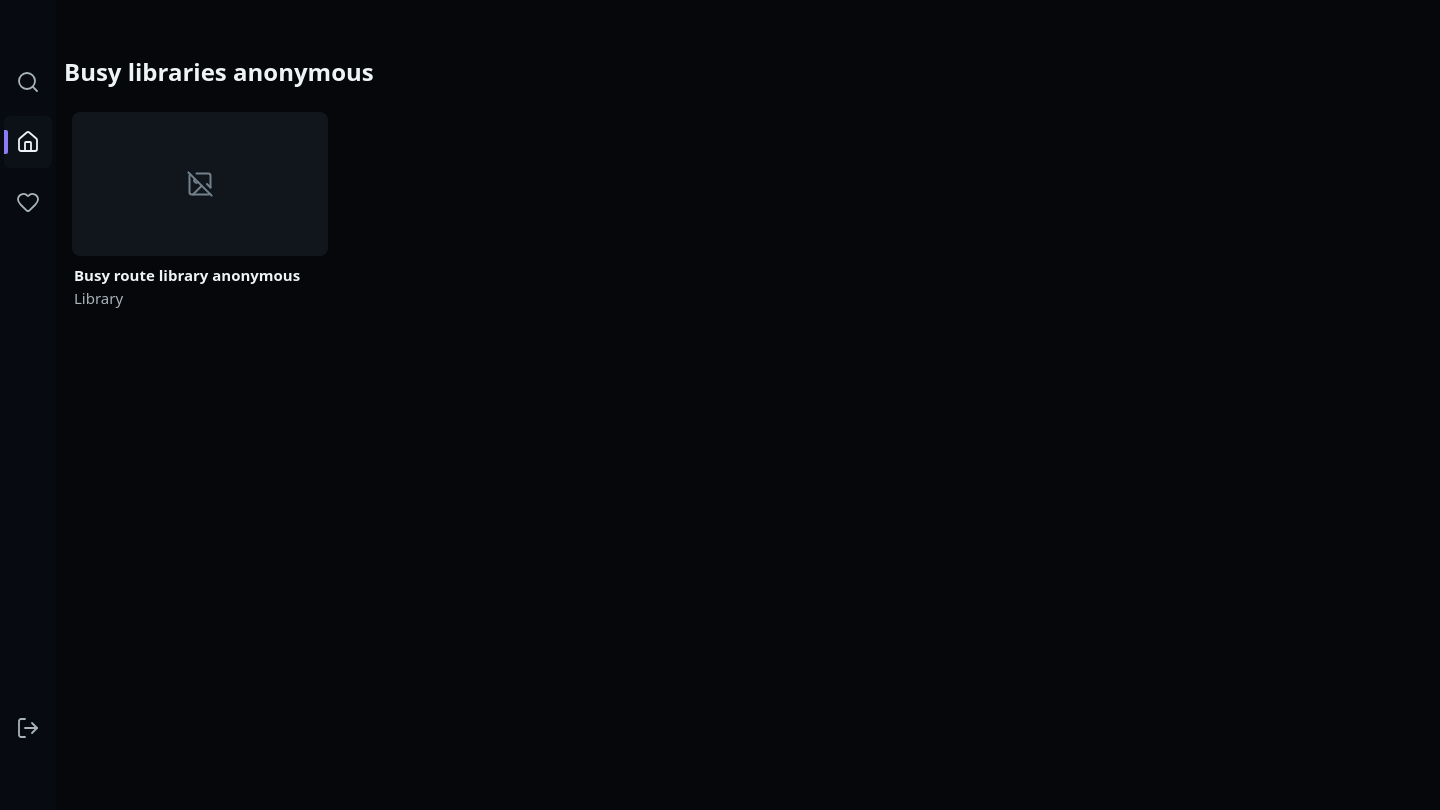
Scenario: App browse route integration › clears superseded Home busy state when a library route wins
This screenshot has width=1440, height=810.
What coordinates should you click on to do the following:
click the button named "Home"
I would click on:
 (28, 142)
Its box is x1=4 y1=116 x2=52 y2=168.
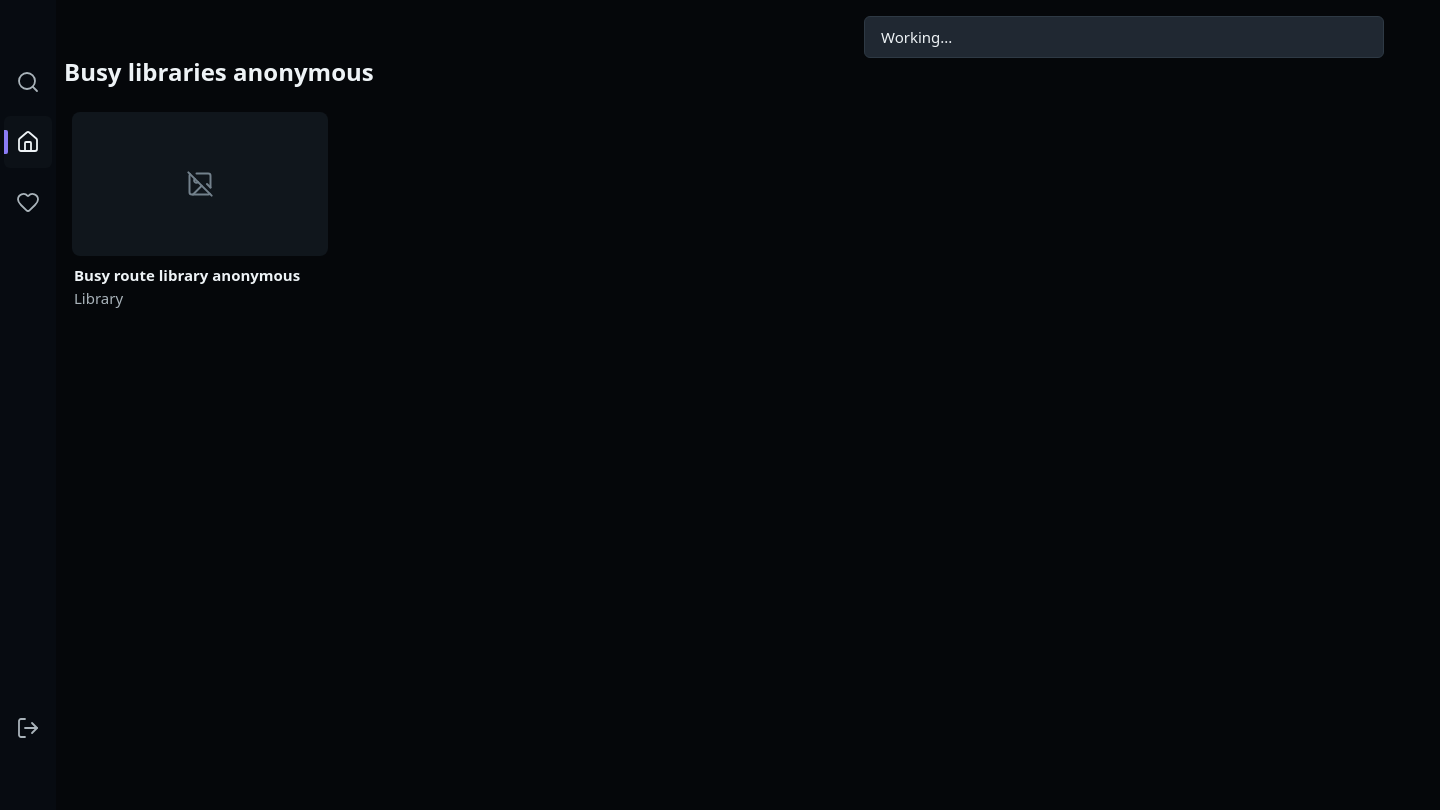
Result: the text "Working..." is shown at x1=864 y1=16 x2=1384 y2=58
What coordinates should you click on to do the following:
click the button with aria-label "Open Busy route library anonymous"
I would click on:
 (200, 210)
Its box is x1=64 y1=104 x2=336 y2=316.
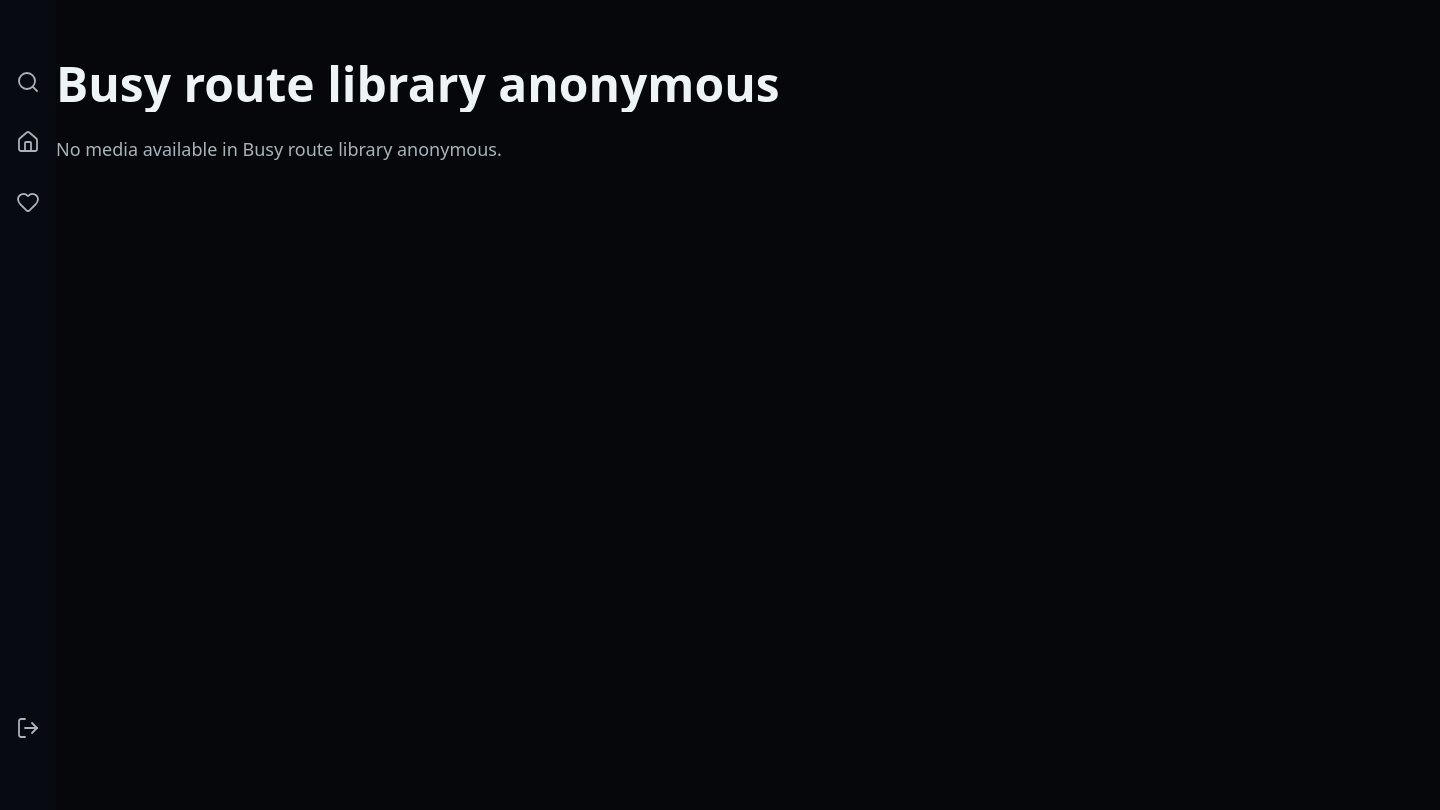
Result: the text "Working..." is gone
Result: the heading "Busy route library anonymous" is shown at x1=56 y1=51 x2=780 y2=116
